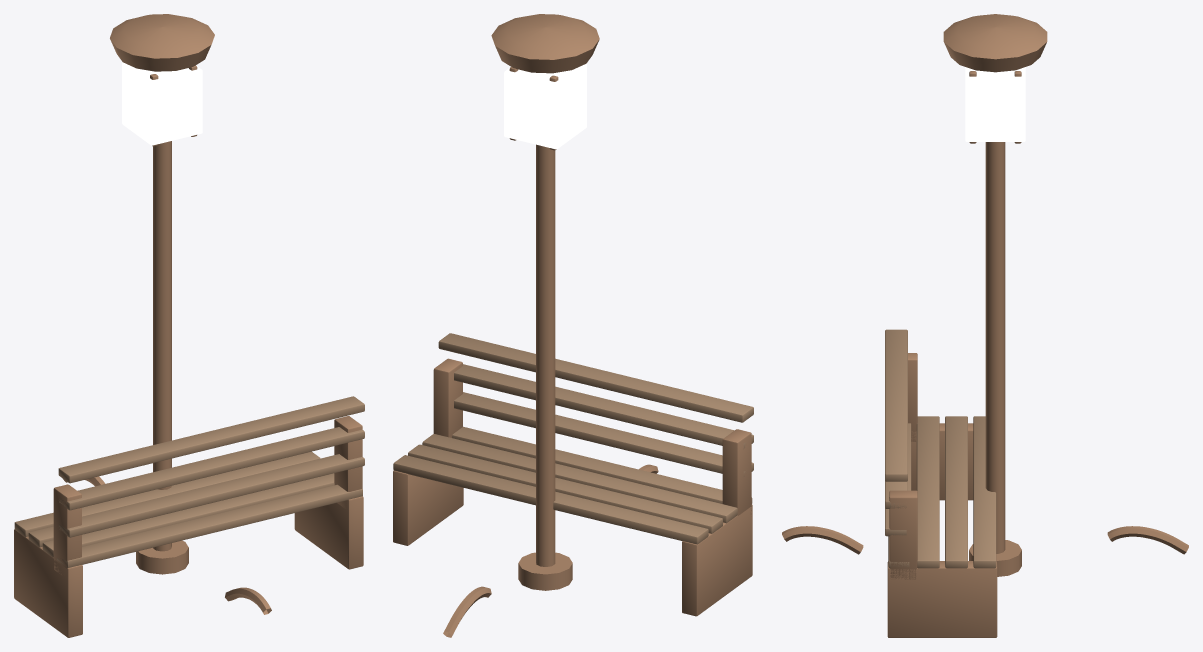
The model's file is th41_bahnsteigbank.glb.
The picture shows the model from 3 angles, left to right: view 1: azimuth 30°, elevation 25°; view 2: azimuth 150°, elevation 25°; view 3: azimuth 270°, elevation 25°; orthographic projection. The views are drawn at different scales.
Parts seen in each view (by area): view 1: Cylinder, Cube.010, Cube.011, Cube.009, Cube.008, Cube.004, Cube, Laternendach, Cube.002, Cube.005, Cube.007, Cube.001 (+3 smaller); view 2: Cylinder, Cube.011, Cube.007, Cube.010, Cube, Laternendach, Cube.009, Cube.008, Cube.006, Cube.005, Cube.004, Cube.002 (+4 smaller); view 3: Cylinder, Cube.002, Laternendach, Cube.011, Cube.005, Cube.006, Cube.010, Cube.007, Cube.003, Cube, Volute.001, Volute (+2 smaller).
Part boxes in pixels (<box>): Cylinder: <box>153,141,171,551</box>; Cube.010: <box>58,396,364,483</box>; Cube.011: <box>122,62,202,145</box>; Cube.009: <box>59,427,364,510</box>; Cube.008: <box>58,454,364,537</box>; Cube.004: <box>57,484,362,567</box>; Cube: <box>14,529,82,637</box>; Laternendach: <box>110,14,214,71</box>; Cube.002: <box>294,496,363,569</box>; Cube.005: <box>42,473,334,557</box>; Cube.007: <box>14,451,320,537</box>; Cube.001: <box>53,484,81,575</box>; Cylinder: <box>536,144,555,566</box>; Cube.011: <box>504,63,586,149</box>; Cube.007: <box>393,455,708,544</box>; Cube.010: <box>438,333,753,422</box>; Cube: <box>682,504,752,616</box>; Laternendach: <box>491,14,599,73</box>; Cube.009: <box>454,364,753,448</box>; Cube.008: <box>454,392,753,476</box>; Cube.006: <box>408,444,722,533</box>; Cube.005: <box>422,434,737,523</box>; Cube.004: <box>452,426,752,511</box>; Cube.002: <box>393,470,463,545</box>; Cylinder: <box>985,142,1005,553</box>; Cube.002: <box>887,561,997,637</box>; Laternendach: <box>943,14,1047,72</box>; Cube.011: <box>965,67,1025,141</box>; Cube.005: <box>916,416,939,568</box>; Cube.006: <box>945,416,967,568</box>; Cube.010: <box>885,329,907,481</box>; Cube.007: <box>973,416,996,568</box>; Cube.003: <box>889,490,917,579</box>; Cube: <box>911,423,973,500</box>; Volute.001: <box>1107,526,1188,554</box>; Volute: <box>782,526,863,554</box>.
Bounding box in the file's own units: 1.94 × 3.36 × 2.3.
